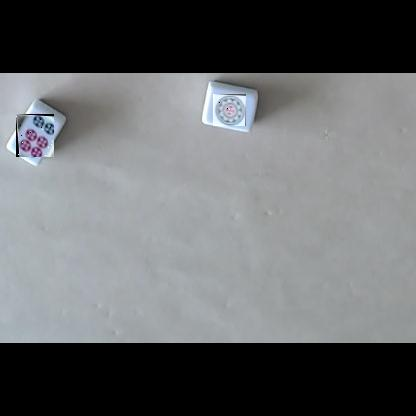1p: (213, 94, 246, 126)
6p: (16, 114, 54, 157)
